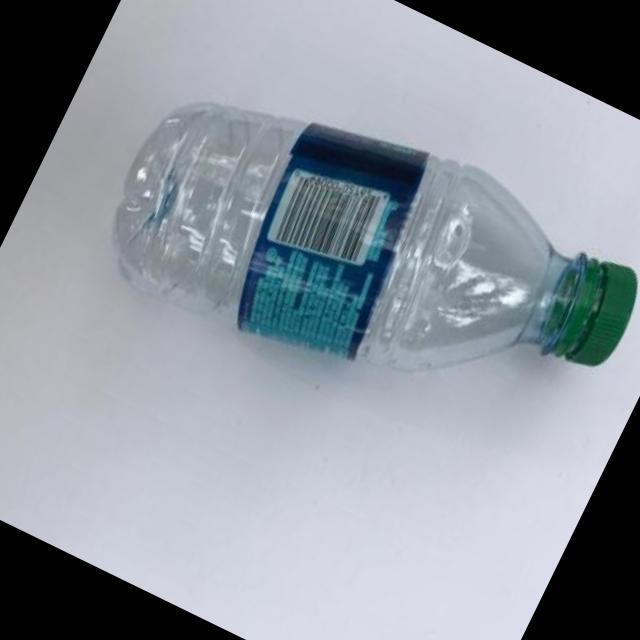BotolPlastik: (81, 27, 640, 491)
